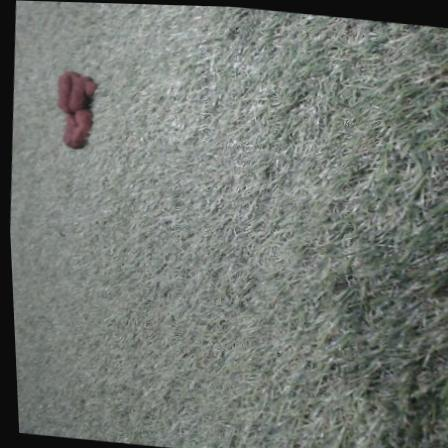dog-poop: (41, 65, 102, 156)
